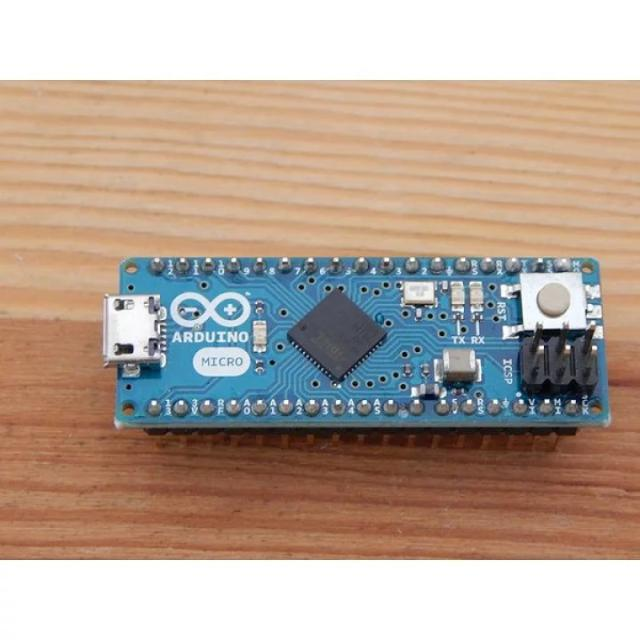Arduino-Micro: (104, 258, 610, 434)
